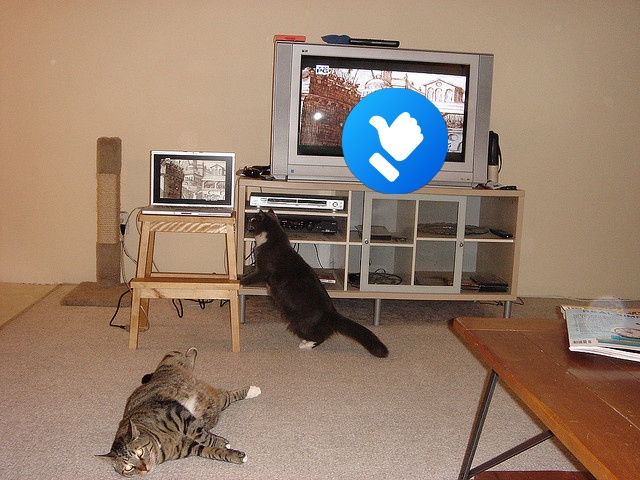like: (342, 88, 448, 194)
